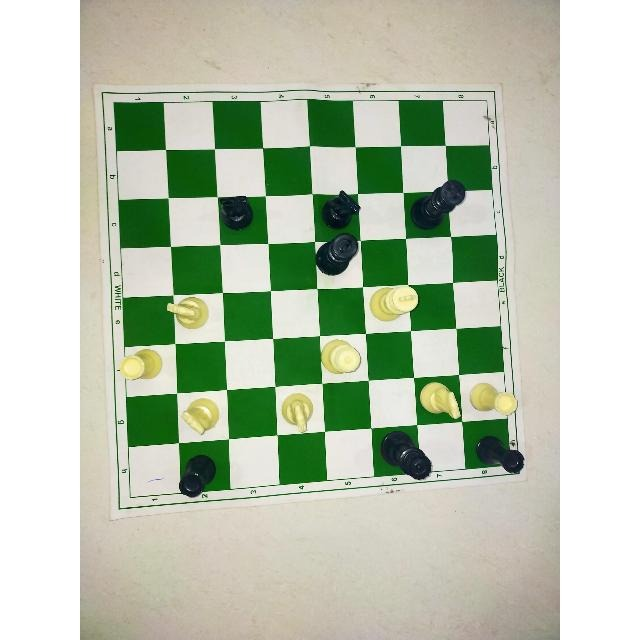black-king: (407, 173, 469, 236), (316, 228, 364, 283)
black-knight: (214, 187, 259, 237), (318, 189, 362, 233)
black-queen: (374, 429, 438, 483)
black-rook: (467, 429, 525, 477), (170, 450, 220, 500)
white-king: (366, 278, 421, 330)
white-knight: (161, 286, 213, 334), (414, 375, 465, 423), (275, 388, 323, 436), (180, 391, 221, 438)
white-queen: (317, 333, 366, 381)
white-rook: (466, 377, 518, 425), (117, 341, 167, 389)
